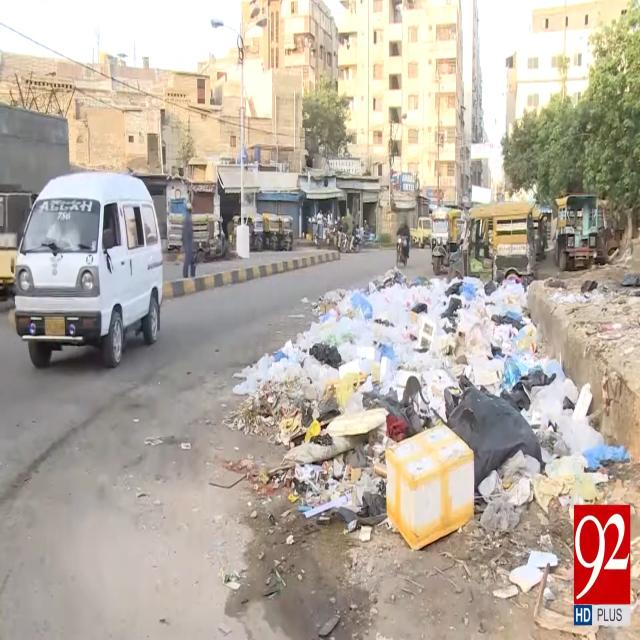high trash: (234, 269, 630, 549)
less trash: (494, 551, 558, 598)
